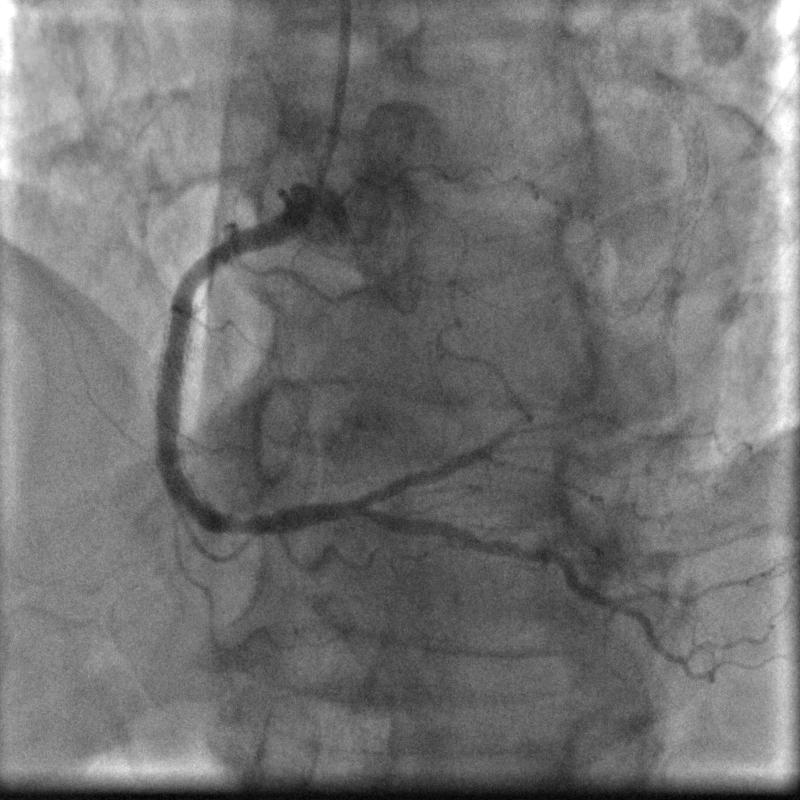Stenosis: (189, 235, 239, 274)
